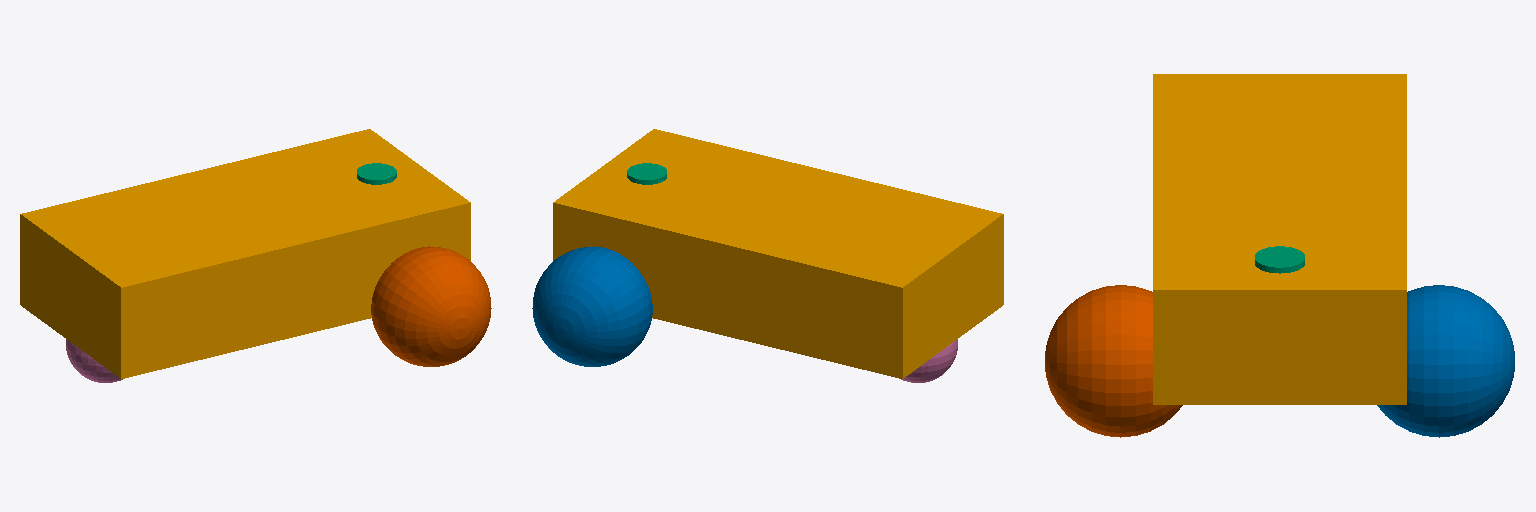
robot.urdf — lumped_robot:
<?xml version="1.0" ?>
<!--
  Example URDF robot demonstrating SDFormat URDF-to-SDF fixed-joint lumping
  (see frame_ids_joint_lumping.sdf).

  Contains three fixed-joint sensor mounts on `base_link`:
    1. `imu_link` (lumped into `base_link`, sensor `imu_sensor` has NO <frame_id>):
       - Lumped away by sdformat; sensor moves onto `base_link` with pose (0.2, 0, 0.3).
       - Publishes with frame_id = "imu_sensor" (mismatching URDF link `imu_link`).
    2. `lidar_link` (lumped into `base_link`, sensor `gpu_lidar` HAS <frame_id>lidar_link</frame_id>):
       - Lumped away by sdformat; sensor moves onto `base_link` with pose (0.6, 0, 0.4).
       - Publishes with frame_id = "lidar_link" (matching URDF link `lidar_link`).
       - Without `publish_sensor_pose=true` (or external `robot_state_publisher`),
         `base_link -> lidar_link` is missing from PosePublisher because `lidar_link`
         is no longer a link entity in Gazebo!
       - With `publish_sensor_pose=true`, PosePublisher reconstructs `base_link -> lidar_link`
         from the lumped sensor's offset pose on `base_link`.
    3. `preserved_imu_link` (preserved via <preserveFixedJoint>true</preserveFixedJoint>,
       sensor `preserved_imu` HAS <frame_id>preserved_imu_link</frame_id>):
       - Remains a distinct link entity in Gazebo (`base_link -> preserved_imu_link`
         is published as a link transform).
       - With `publish_sensor_pose=true`, PosePublisher sees `frame == childFrame`
         (`preserved_imu_link -> preserved_imu_link`) and skips the redundant self-transform.
-->
<robot name="lumped_robot">

  <link name="base_link">
    <inertial>
      <origin xyz="-0.15 0 0.175" rpy="0 0 0"/>
      <mass value="1.14395"/>
      <inertia ixx="0.126164" ixy="0" ixz="0" iyy="0.416519" iyz="0" izz="0.481014"/>
    </inertial>
    <visual>
      <origin xyz="-0.15 0 0.175" rpy="0 0 0"/>
      <geometry>
        <box size="2.0 1.0 0.5"/>
      </geometry>
    </visual>
    <collision>
      <origin xyz="-0.15 0 0.175" rpy="0 0 0"/>
      <geometry>
        <box size="2.0 1.0 0.5"/>
      </geometry>
    </collision>
  </link>

  <!-- 1. Lumped fixed joint WITHOUT <frame_id> -->
  <link name="imu_link"/>
  <joint name="imu_joint" type="fixed">
    <parent link="base_link"/>
    <child link="imu_link"/>
    <origin xyz="0.2 0 0.3" rpy="0 0 0"/>
  </joint>
  <gazebo reference="imu_link">
    <sensor name="imu_sensor" type="imu">
      <always_on>1</always_on>
      <update_rate>10</update_rate>
    </sensor>
  </gazebo>

  <!-- 2. Lumped fixed joint WITH <frame_id>lidar_link</frame_id> -->
  <link name="lidar_link">
    <visual>
      <geometry>
        <cylinder radius="0.1" length="0.1"/>
      </geometry>
    </visual>
  </link>
  <joint name="lidar_joint" type="fixed">
    <parent link="base_link"/>
    <child link="lidar_link"/>
    <origin xyz="0.6 0 0.4" rpy="0 0 0"/>
  </joint>
  <gazebo reference="lidar_link">
    <sensor name="gpu_lidar" type="gpu_lidar">
      <frame_id>lidar_link</frame_id>
      <update_rate>5</update_rate>
      <lidar>
        <scan>
          <horizontal>
            <samples>32</samples>
            <resolution>1</resolution>
            <min_angle>-1.57</min_angle>
            <max_angle>1.57</max_angle>
          </horizontal>
        </scan>
        <range>
          <min>0.1</min>
          <max>10.0</max>
          <resolution>0.01</resolution>
        </range>
      </lidar>
    </sensor>
  </gazebo>

  <!-- 3. Preserved fixed joint WITH <preserveFixedJoint>true</preserveFixedJoint>
          and <frame_id>preserved_imu_link</frame_id> -->
  <link name="preserved_imu_link">
    <inertial>
      <mass value="0.05"/>
      <inertia ixx="0.0001" ixy="0" ixz="0" iyy="0.0001" iyz="0" izz="0.0001"/>
    </inertial>
  </link>
  <joint name="preserved_imu_joint" type="fixed">
    <parent link="base_link"/>
    <child link="preserved_imu_link"/>
    <origin xyz="-0.4 0 0.3" rpy="0 0 0"/>
  </joint>
  <gazebo reference="preserved_imu_joint">
    <preserveFixedJoint>true</preserveFixedJoint>
  </gazebo>
  <gazebo reference="preserved_imu_link">
    <sensor name="preserved_imu" type="imu">
      <frame_id>preserved_imu_link</frame_id>
      <always_on>1</always_on>
      <update_rate>10</update_rate>
    </sensor>
  </gazebo>

  <!-- Wheels & Caster -->
  <link name="left_wheel">
    <inertial>
      <mass value="2.0"/>
      <inertia ixx="0.145833" ixy="0" ixz="0" iyy="0.145833" iyz="0" izz="0.125"/>
    </inertial>
    <visual>
      <geometry><sphere radius="0.3"/></geometry>
    </visual>
    <collision>
      <geometry><sphere radius="0.3"/></geometry>
    </collision>
  </link>
  <joint name="left_wheel_joint" type="continuous">
    <parent link="base_link"/>
    <child link="left_wheel"/>
    <origin xyz="0.55 0.625 -0.025" rpy="-1.5707 0 0"/>
    <axis xyz="0 0 1"/>
  </joint>

  <link name="right_wheel">
    <inertial>
      <mass value="2.0"/>
      <inertia ixx="0.145833" ixy="0" ixz="0" iyy="0.145833" iyz="0" izz="0.125"/>
    </inertial>
    <visual>
      <geometry><sphere radius="0.3"/></geometry>
    </visual>
    <collision>
      <geometry><sphere radius="0.3"/></geometry>
    </collision>
  </link>
  <joint name="right_wheel_joint" type="continuous">
    <parent link="base_link"/>
    <child link="right_wheel"/>
    <origin xyz="0.55 -0.625 -0.025" rpy="-1.5707 0 0"/>
    <axis xyz="0 0 1"/>
  </joint>

  <link name="caster">
    <inertial>
      <mass value="1.0"/>
      <inertia ixx="0.1" ixy="0" ixz="0" iyy="0.1" iyz="0" izz="0.1"/>
    </inertial>
    <visual>
      <geometry><sphere radius="0.2"/></geometry>
    </visual>
    <collision>
      <geometry><sphere radius="0.2"/></geometry>
    </collision>
  </link>
  <joint name="caster_joint" type="fixed">
    <parent link="base_link"/>
    <child link="caster"/>
    <origin xyz="-0.95 0 -0.125" rpy="0 0 0"/>
  </joint>

  <gazebo>
    <plugin filename="gz-sim-diff-drive-system" name="gz::sim::systems::DiffDrive">
      <left_joint>left_wheel_joint</left_joint>
      <right_joint>right_wheel_joint</right_joint>
      <wheel_separation>1.25</wheel_separation>
      <wheel_radius>0.3</wheel_radius>
      <odom_publish_frequency>5</odom_publish_frequency>
    </plugin>
  </gazebo>

</robot>

--- Render facts (derived) ---
Views: 3 orthographic renders of the robot side by side, from view 1: azimuth 30°, elevation 25°; view 2: azimuth 150°, elevation 25°; view 3: azimuth 270°, elevation 25°.
Robot: lumped_robot — 7 links, 6 joints (2 continuous, 4 fixed); root link base_link; default pose: every joint at zero.
Visible links, largest first — view 1: base_link, right_wheel, caster, lidar_link; view 2: base_link, left_wheel, caster, lidar_link; view 3: base_link, left_wheel, right_wheel, lidar_link.
Boxes of the visible links, x1,y1,x2,y2 form: base_link: (20,129,470,378); right_wheel: (371,246,491,366); caster: (66,339,122,382); lidar_link: (357,163,396,184); base_link: (553,129,1003,378); left_wheel: (532,246,652,366); caster: (901,339,957,382); lidar_link: (627,163,666,184); base_link: (1153,74,1406,404); left_wheel: (1377,285,1514,437); right_wheel: (1045,285,1182,437); lidar_link: (1255,246,1304,273).
Bounding box of the posed robot: 2 × 1.85 × 0.775 m (x, y, z).
Geometry: primitives only (box / cylinder / sphere), no mesh files.
